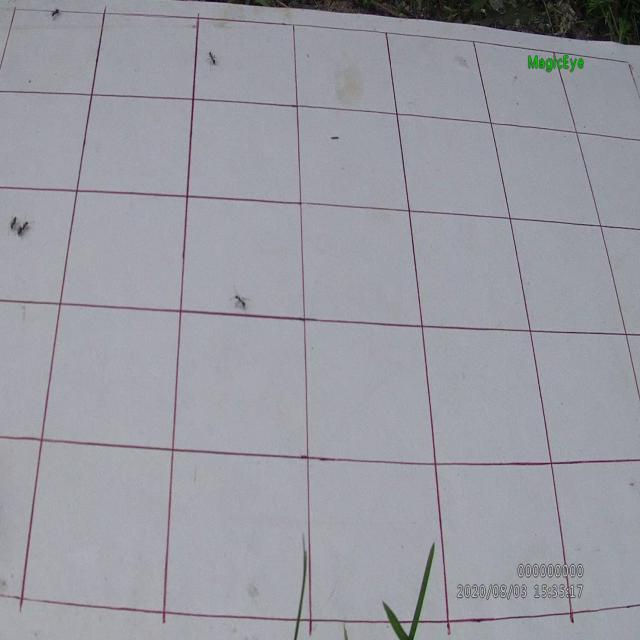Ant: (230, 285, 251, 312), (16, 214, 34, 242), (205, 50, 217, 71), (45, 7, 62, 21), (8, 213, 18, 236)
